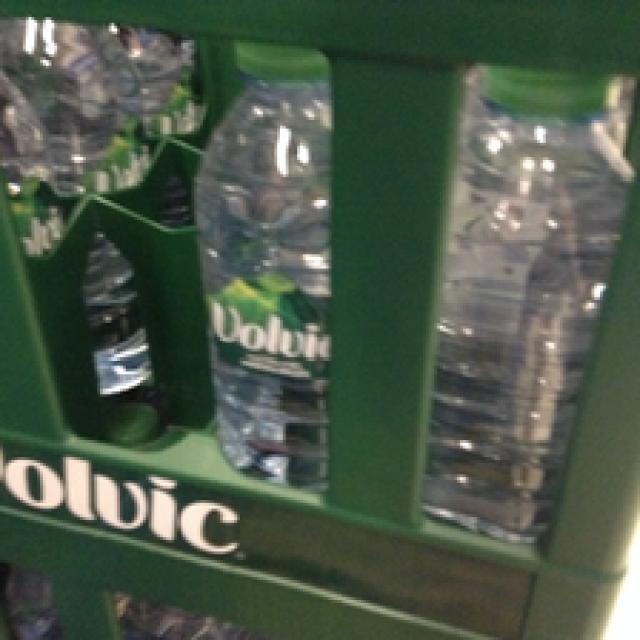groceries: (417, 60, 634, 543), (183, 34, 331, 492)
